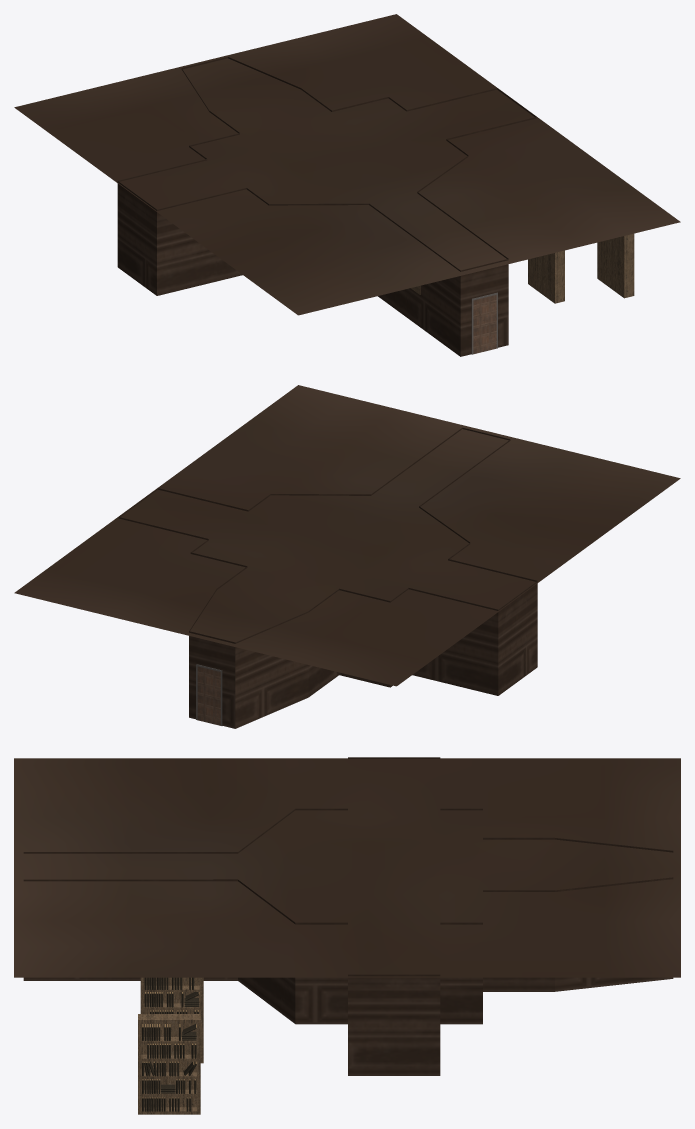
The model's file is Library Room Geometry retest.fbx.
3 views of the same model, one above another, from view 1: azimuth 30°, elevation 25°; view 2: azimuth 150°, elevation 25°; view 3: azimuth 270°, elevation 25° (orthographic). The views are drawn at different scales.
Parts seen in each view (by area): view 1: Celing, Puzzle 2, Cube.003, Cube.001, Door; view 2: Celing, Puzzle 2, Door.001; view 3: Celing, Puzzle 2, Cube.003, shelf 1, Cube.001, Cube.002.
Part boxes in pixels (<box>): Celing: <box>14,14,680,315</box>; Puzzle 2: <box>117,57,536,356</box>; Cube.003: <box>597,233,634,298</box>; Cube.001: <box>528,250,564,303</box>; Door: <box>471,292,497,354</box>; Celing: <box>14,385,680,686</box>; Puzzle 2: <box>118,427,537,728</box>; Door.001: <box>196,664,222,725</box>; Celing: <box>14,758,680,977</box>; Puzzle 2: <box>23,757,673,1075</box>; Cube.003: <box>138,1014,200,1114</box>; shelf 1: <box>142,1024,196,1111</box>; Cube.001: <box>140,977,203,1063</box>; Cube.002: <box>144,977,199,1013</box>.
Size of the model in its own units: 5138 by 1456 by 6501.
